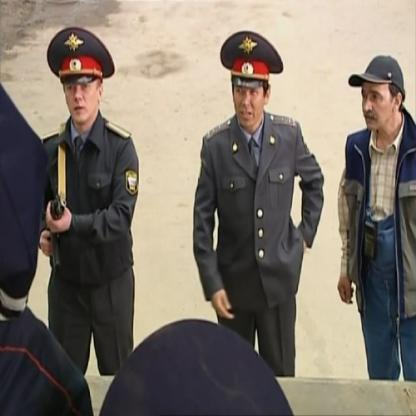Guns: (36, 194, 76, 270)
